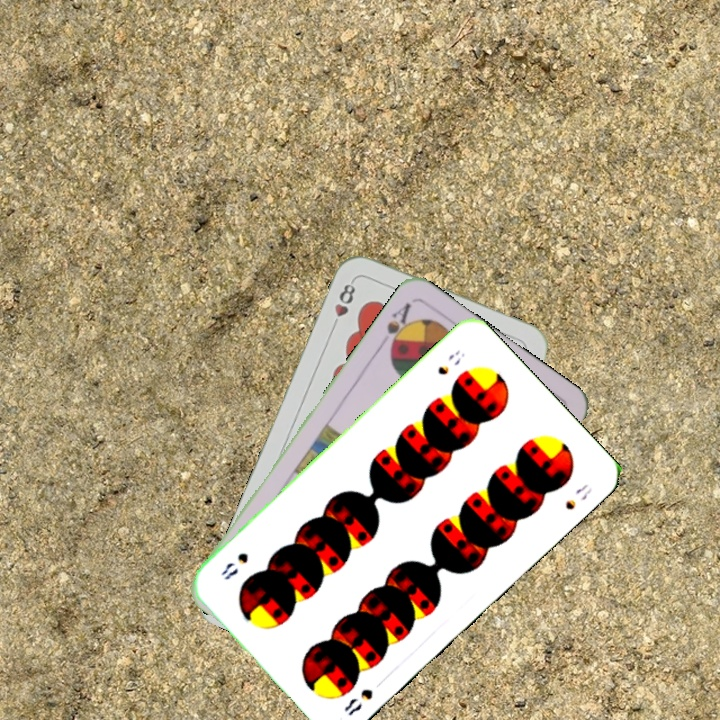H8: (327, 276, 358, 332)
S8: (339, 684, 376, 719), (433, 346, 468, 378)
SA: (375, 298, 416, 355)
